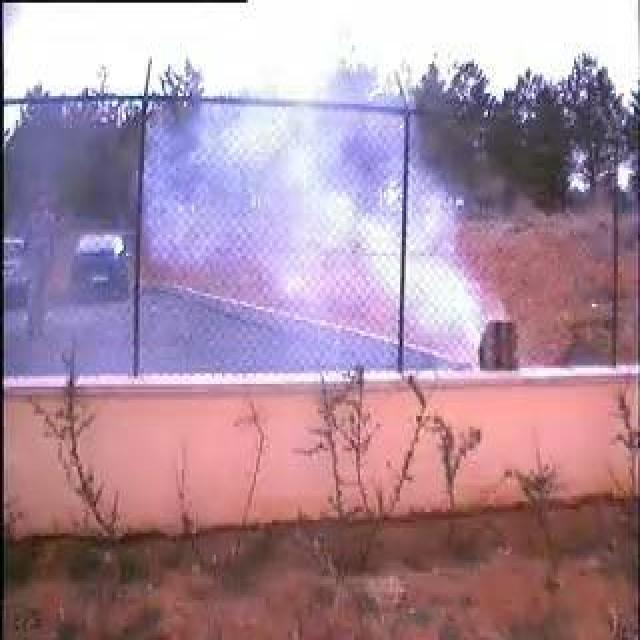Smoke: (129, 59, 491, 362)
